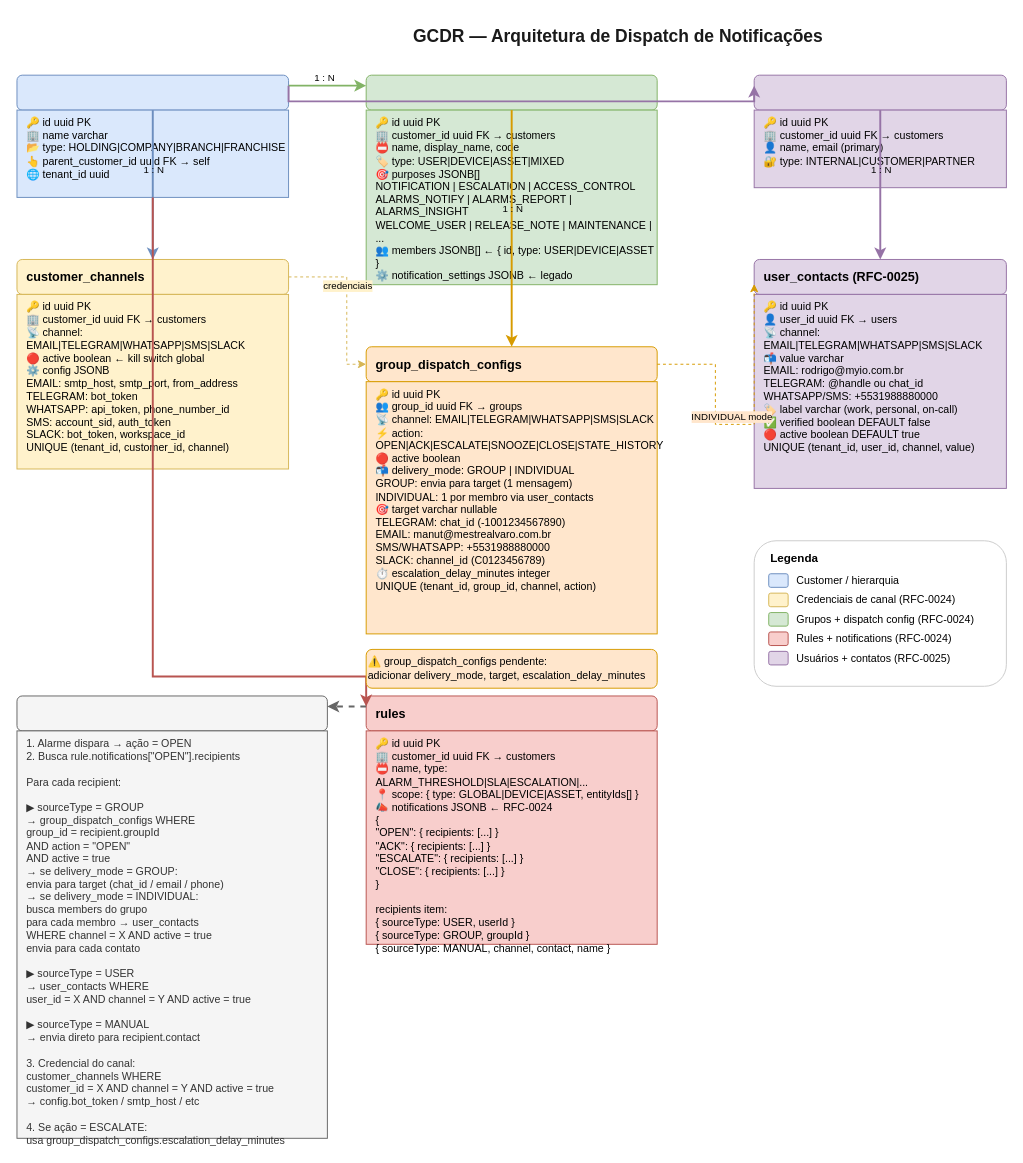
Some shapes in this 1023 by 1163 pixel diagram are drawn without their labels. The shapes that lost their labels are listed below. From the top down, each one's centre as x and y in pixels, then its label:
At pixel 152 92: "customers".
At pixel 511 92: "groups".
At pixel 879 92: "users".
At pixel 171 713: "Alarm Orchestrator — Fluxo de Dispatch".
